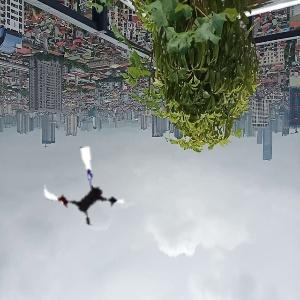drone: (42, 144, 131, 233)
